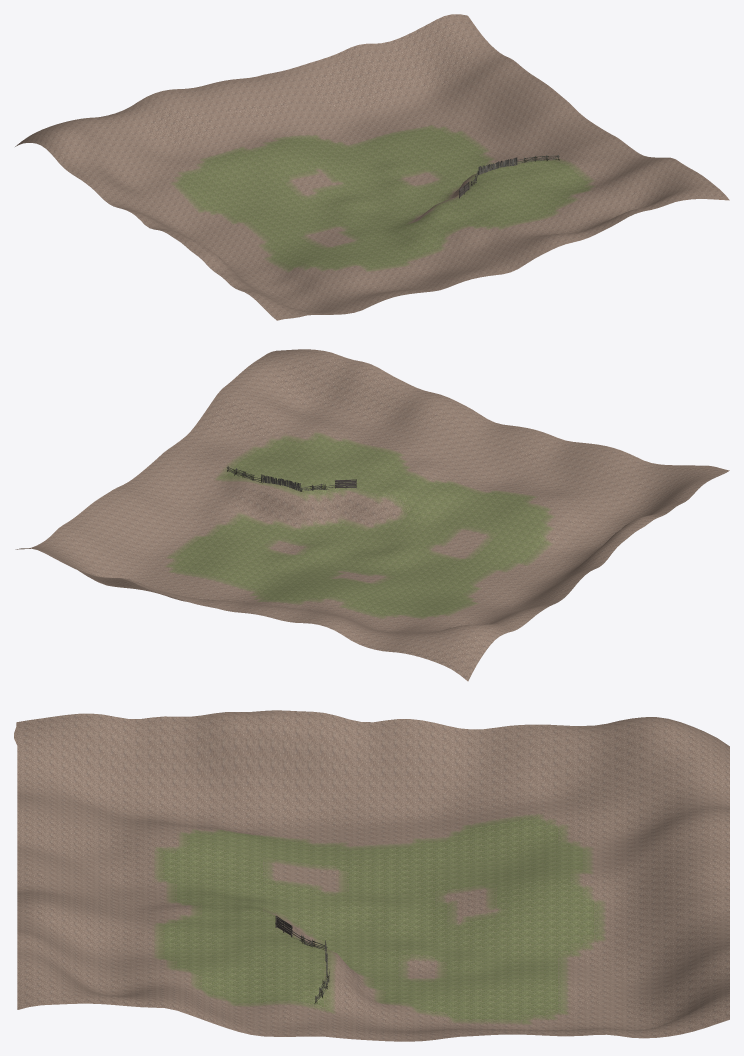
3 views of the same model, one above another, from view 1: azimuth 30°, elevation 25°; view 2: azimuth 150°, elevation 25°; view 3: azimuth 270°, elevation 25° (orthographic). The views are drawn at different scales.
Parts seen in each view (by area): view 1: SM_SampleGame_Stage00_Ground; view 2: SM_SampleGame_Stage00_Ground; view 3: SM_SampleGame_Stage00_Ground.
Boxes of the visible parts, x1=… form: SM_SampleGame_Stage00_Ground: x1=15, y1=14, x2=729, y2=320; SM_SampleGame_Stage00_Ground: x1=15, y1=349, x2=729, y2=681; SM_SampleGame_Stage00_Ground: x1=14, y1=710, x2=729, y2=1041.
Bounding box in the file's own units: 11637 × 1505 × 11691.
